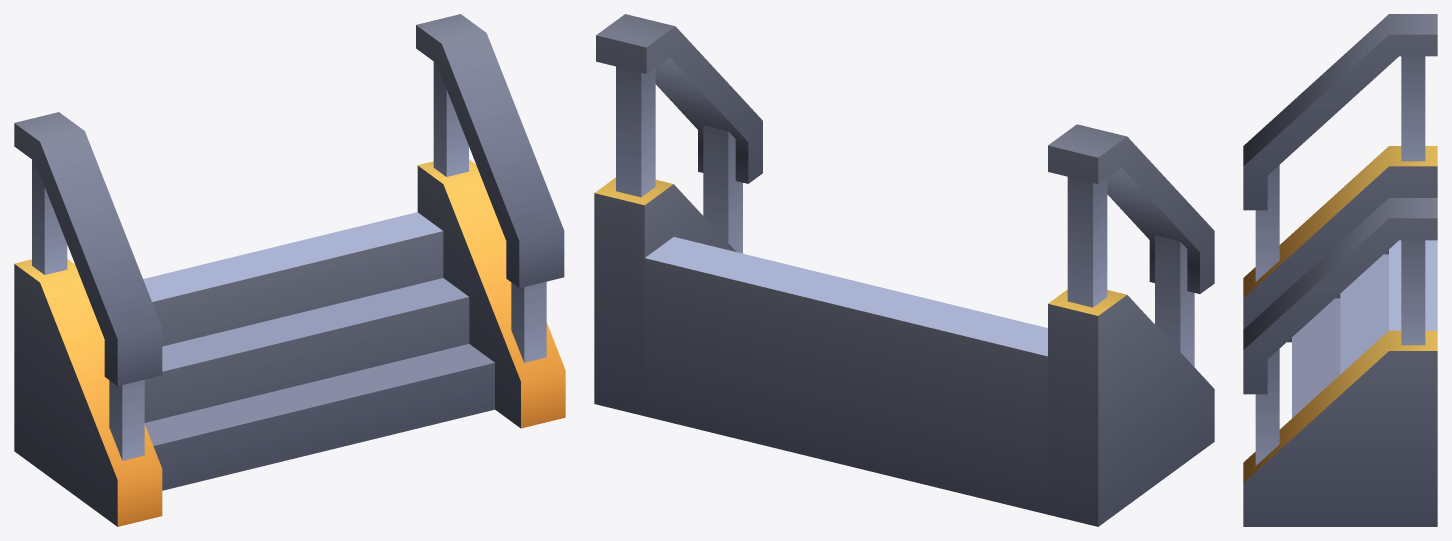
The model's file is stairs-small-edges-handrail.glb.
3 renders of one model, left to right at view 1: azimuth 30°, elevation 25°; view 2: azimuth 150°, elevation 25°; view 3: azimuth 270°, elevation 25°, orthographic. The views are drawn at different scales.
Parts seen in each view (by area): view 1: stairs-small-edges-handrail; view 2: stairs-small-edges-handrail; view 3: stairs-small-edges-handrail.
Boxes of the visible parts, x1,y1,x2,y2 form: stairs-small-edges-handrail: (14, 14, 565, 526); stairs-small-edges-handrail: (594, 14, 1214, 526); stairs-small-edges-handrail: (1243, 14, 1437, 526).
Size of the model in its own units: 1 by 0.7 by 0.3999.
Materials: 1 (1 with a texture image).
